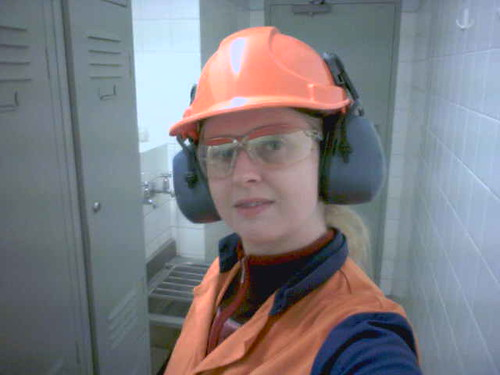person hardhat: (168, 26, 354, 245)
